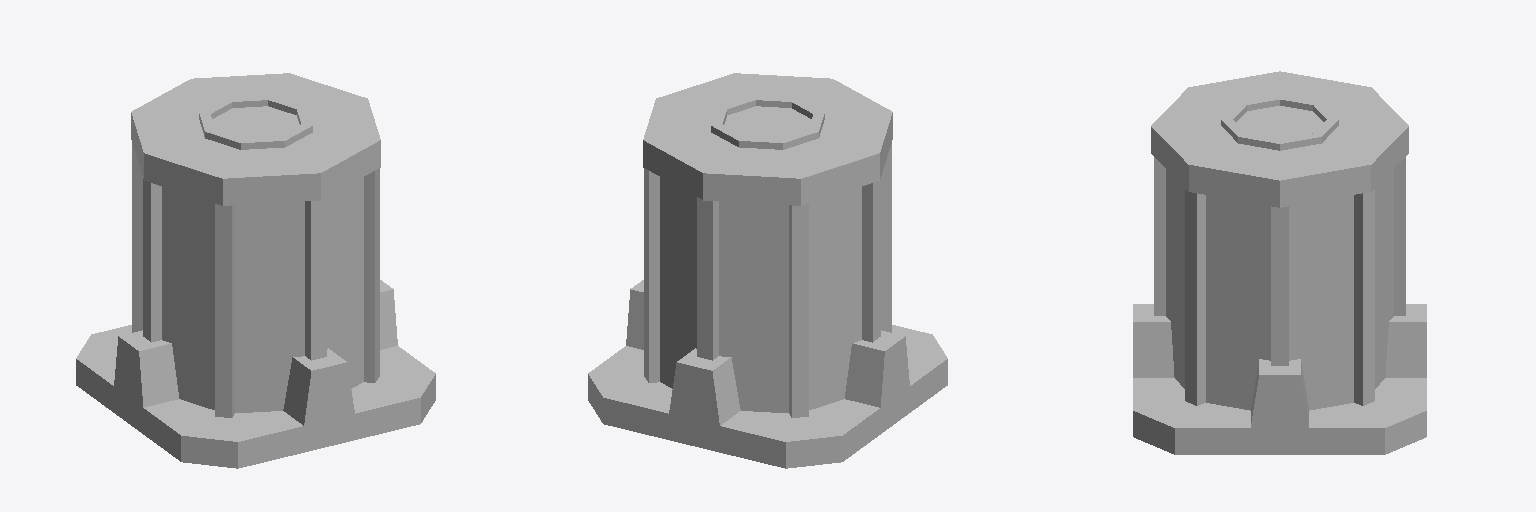
The model's file is battery.obj.
3 views of the same model, side by side, from view 1: azimuth 30°, elevation 25°; view 2: azimuth 150°, elevation 25°; view 3: azimuth 270°, elevation 25° (orthographic).
Parts seen in each view (by area): view 1: Cylinder, Cylinder.002, Cube_Cube.001, Cube.002_Cube.004, Cube.003_Cube.006, Cylinder.001, Cylinder.003; view 2: Cylinder, Cylinder.002, Cube_Cube.001, Cube.002_Cube.004, Cube.003_Cube.006, Cylinder.001, Cylinder.003; view 3: Cylinder, Cylinder.002, Cube.002_Cube.004, Cube_Cube.001, Cube.003_Cube.006, Cylinder.001, Cylinder.003.
Part boxes in pixels (x1,y1,x2,y2): Cylinder: (162,177,363,412); Cylinder.002: (131,73,380,205); Cube_Cube.001: (76,325,435,468); Cube.002_Cube.004: (132,144,379,417); Cube.003_Cube.006: (114,280,397,425); Cylinder.001: (199,95,312,149); Cylinder.003: (212,106,299,137); Cylinder: (660,177,861,412); Cylinder.002: (643,73,892,205); Cube_Cube.001: (588,325,947,468); Cube.002_Cube.004: (644,144,891,417); Cube.003_Cube.006: (626,280,909,425); Cylinder.001: (711,95,824,149); Cylinder.003: (724,106,811,137); Cylinder: (1166,169,1393,410); Cylinder.002: (1151,71,1408,207); Cube.002_Cube.004: (1154,157,1405,405); Cube_Cube.001: (1133,378,1426,454); Cube.003_Cube.006: (1133,304,1426,427); Cylinder.001: (1221,95,1338,150); Cylinder.003: (1236,106,1323,138).
Bounding box in the file's own units: 10 × 10.26 × 10.